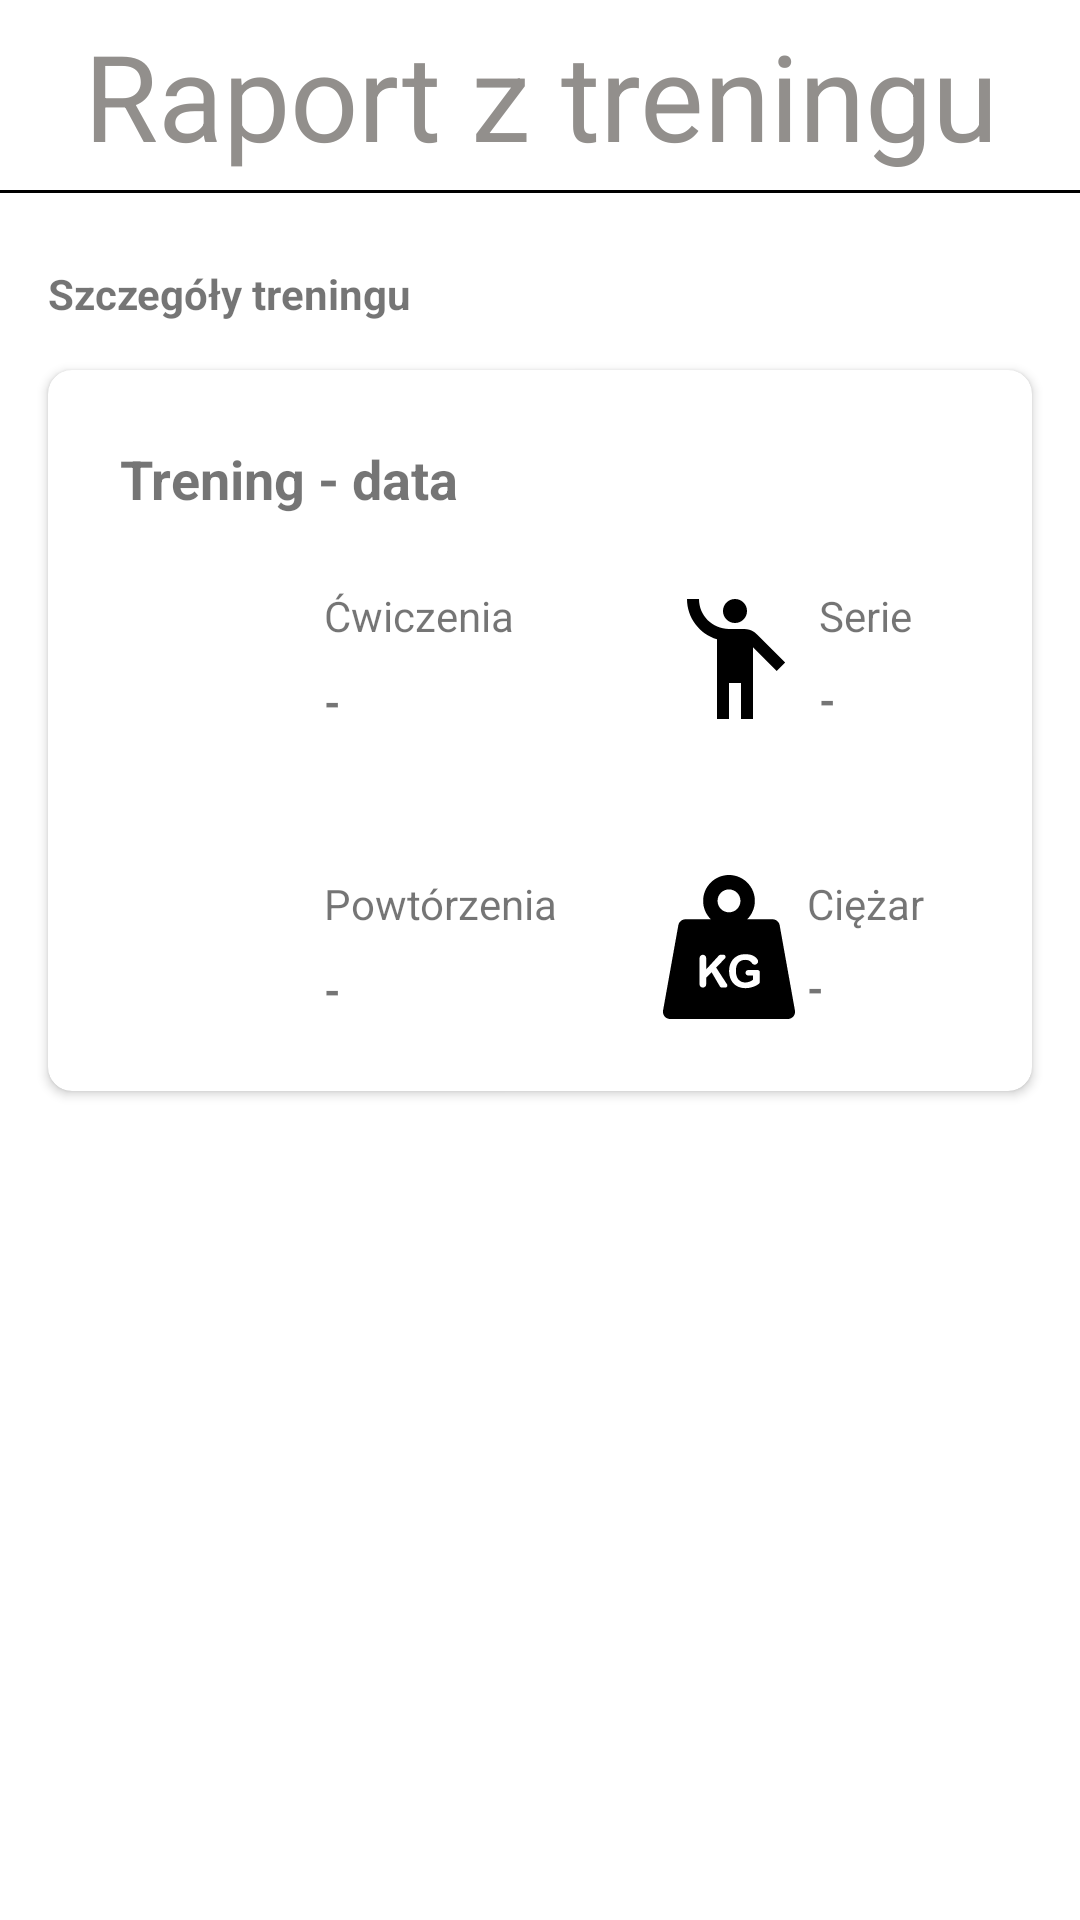

Where icons sit on this 1080×1920 app screen, as (x1, y1, x2, y2):
emoji people: (687, 599, 785, 719)
weight: (663, 875, 795, 1019)
